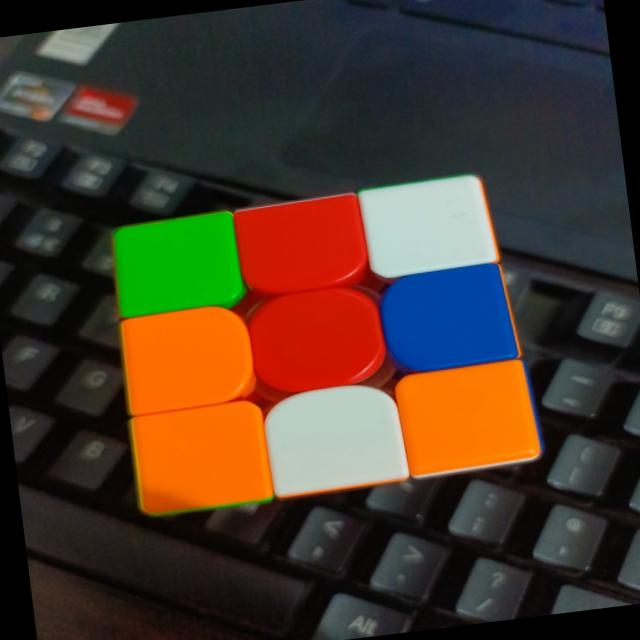rubik: (100, 169, 546, 519)
